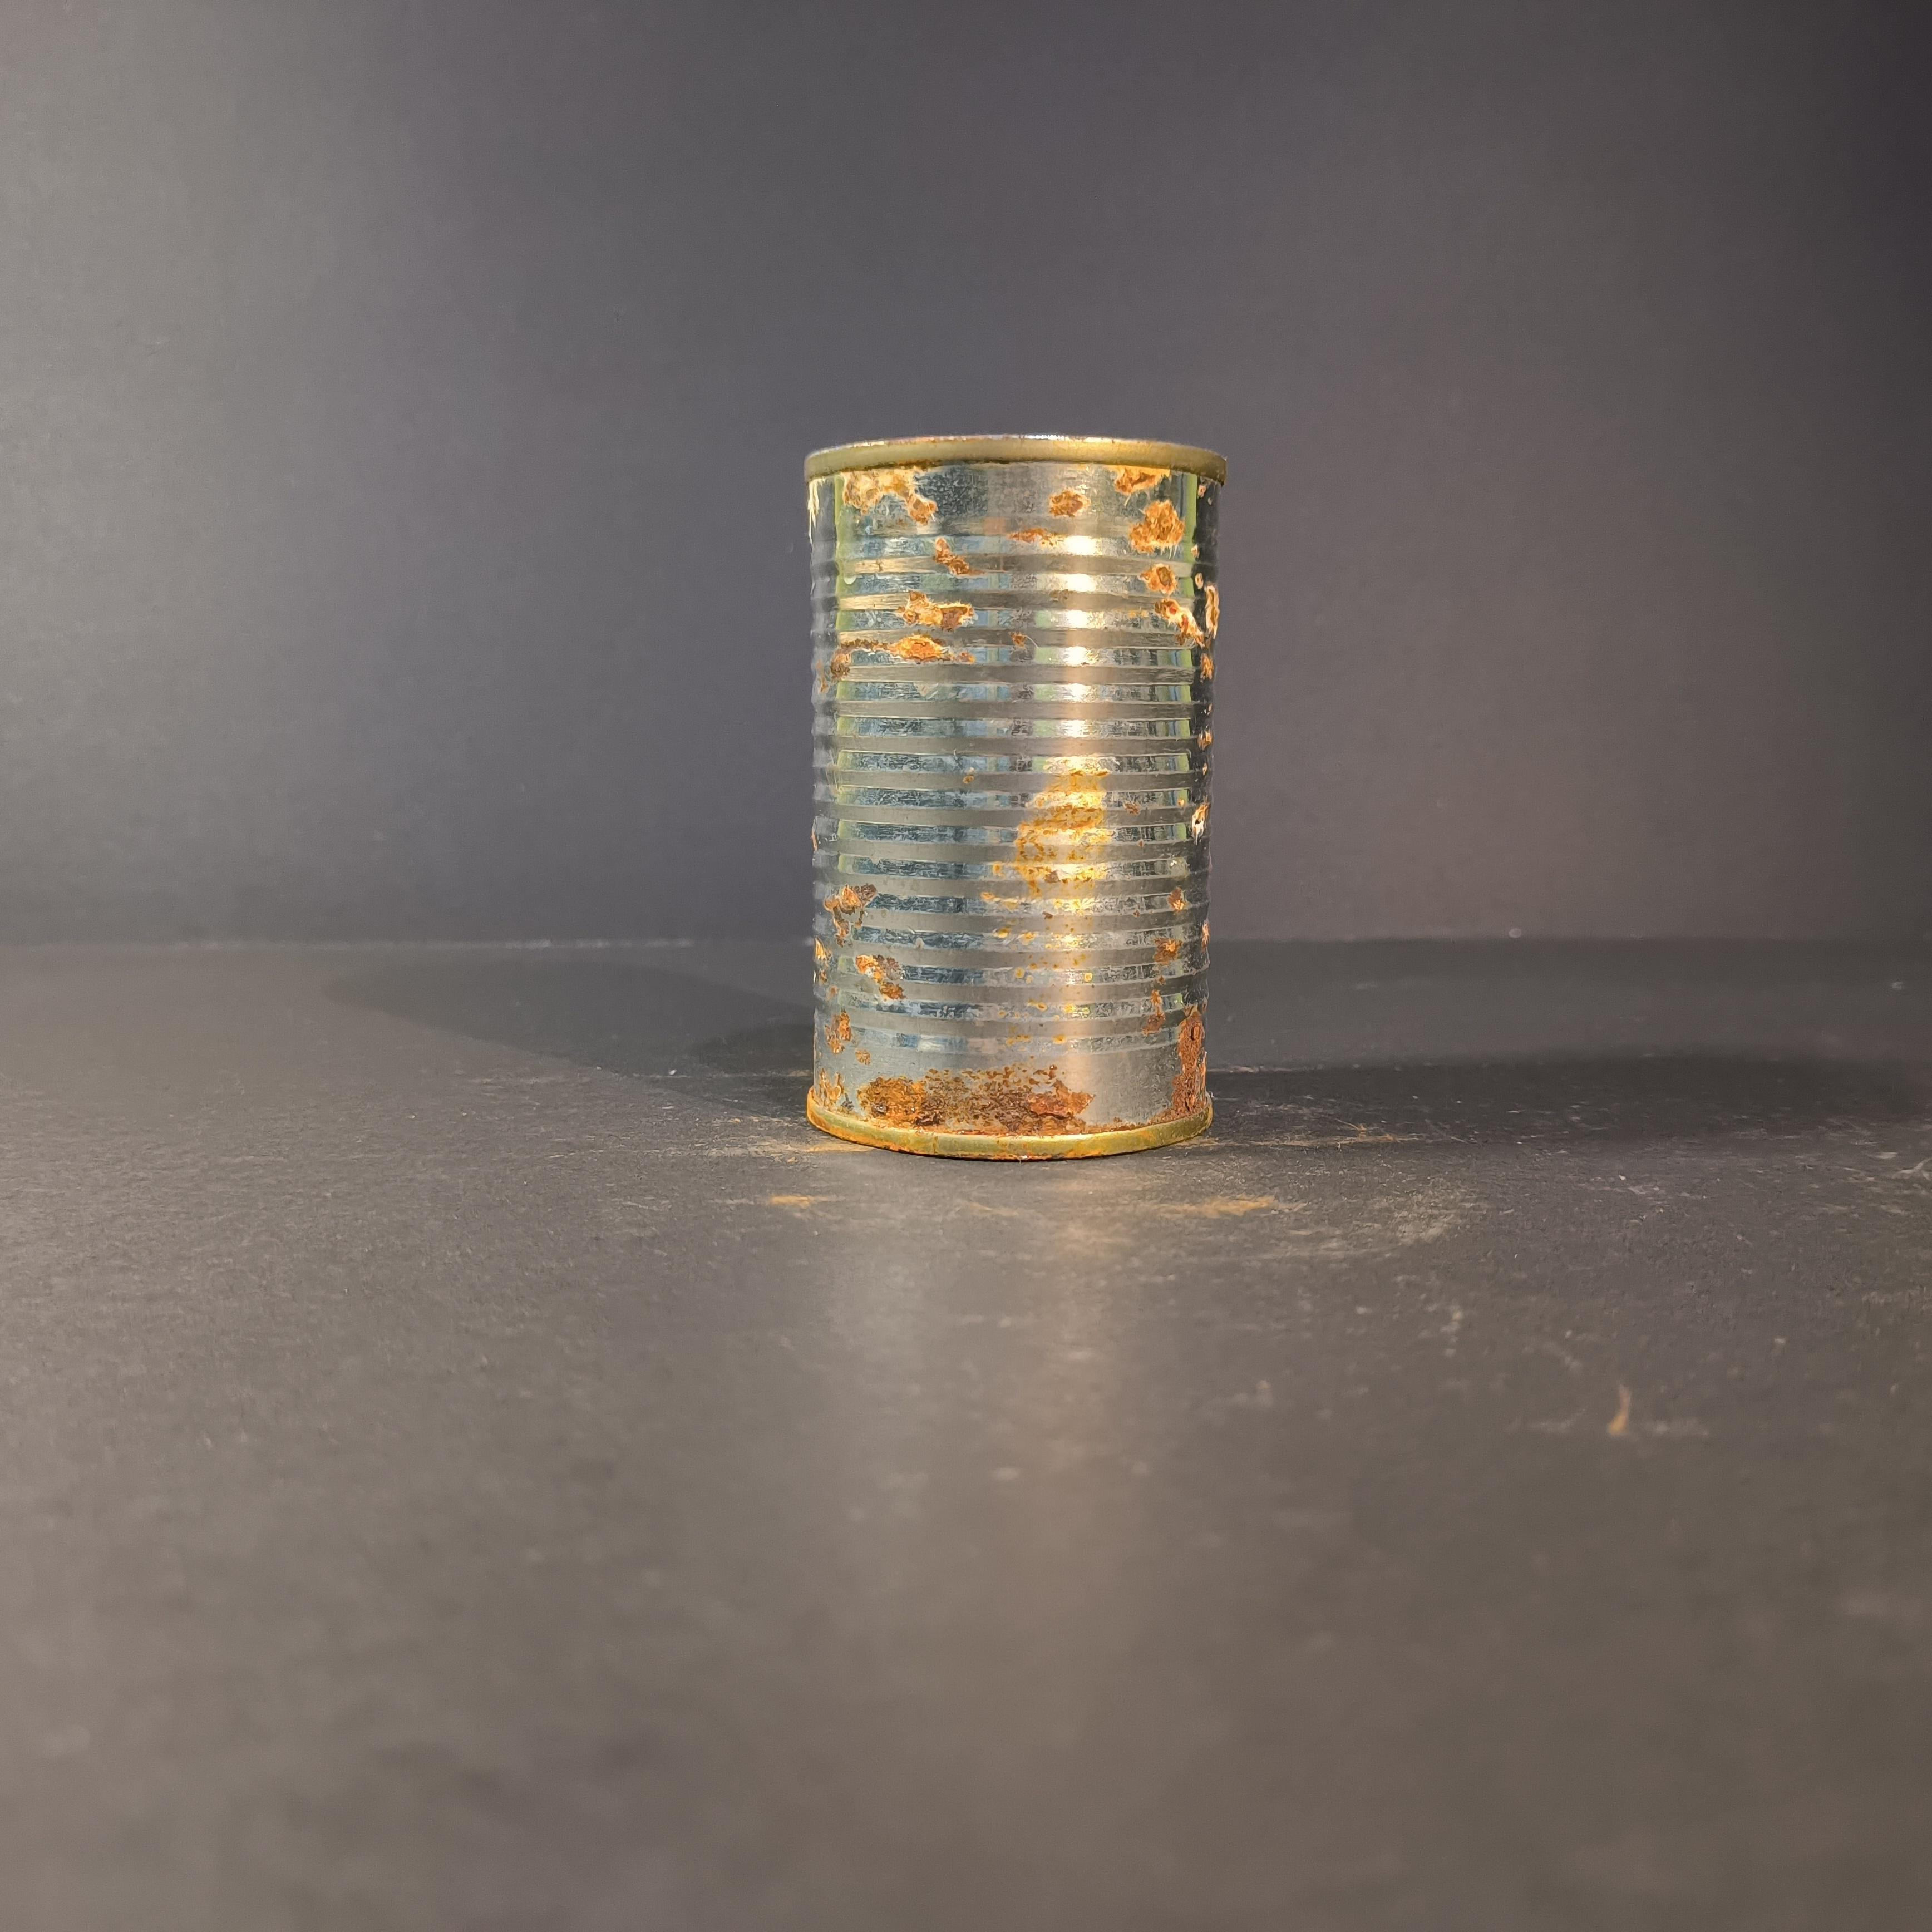Rusted: (773, 412, 1260, 1191)
